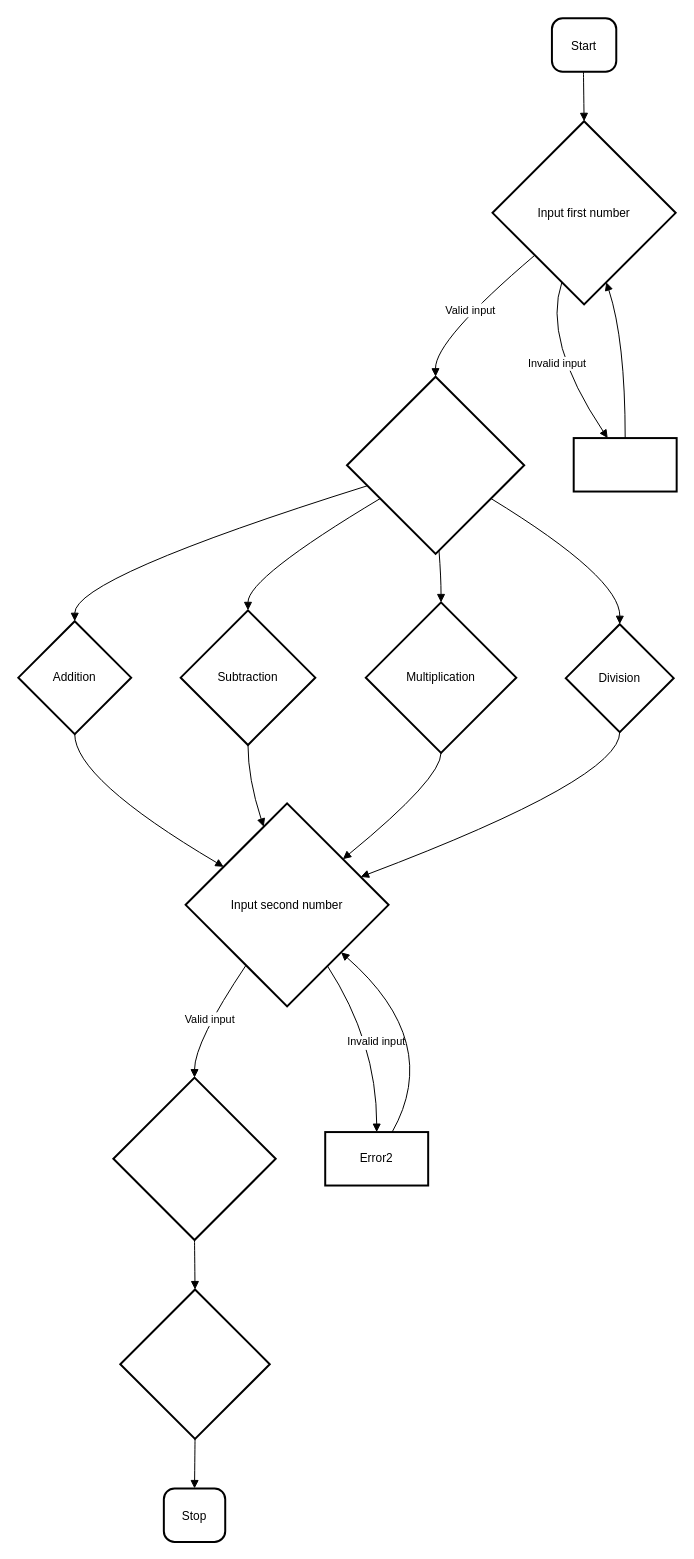
Some shapes in this 694 by 1559 pixel diagram are drawn without their labels. The shapes that lost their labels are listed below. From the top down, each one's centre as x and y in pixels, then its label:
[435,464]: Choose operation
[624,464]: Error1
[194,1158]: Compute result
[194,1363]: Display result
